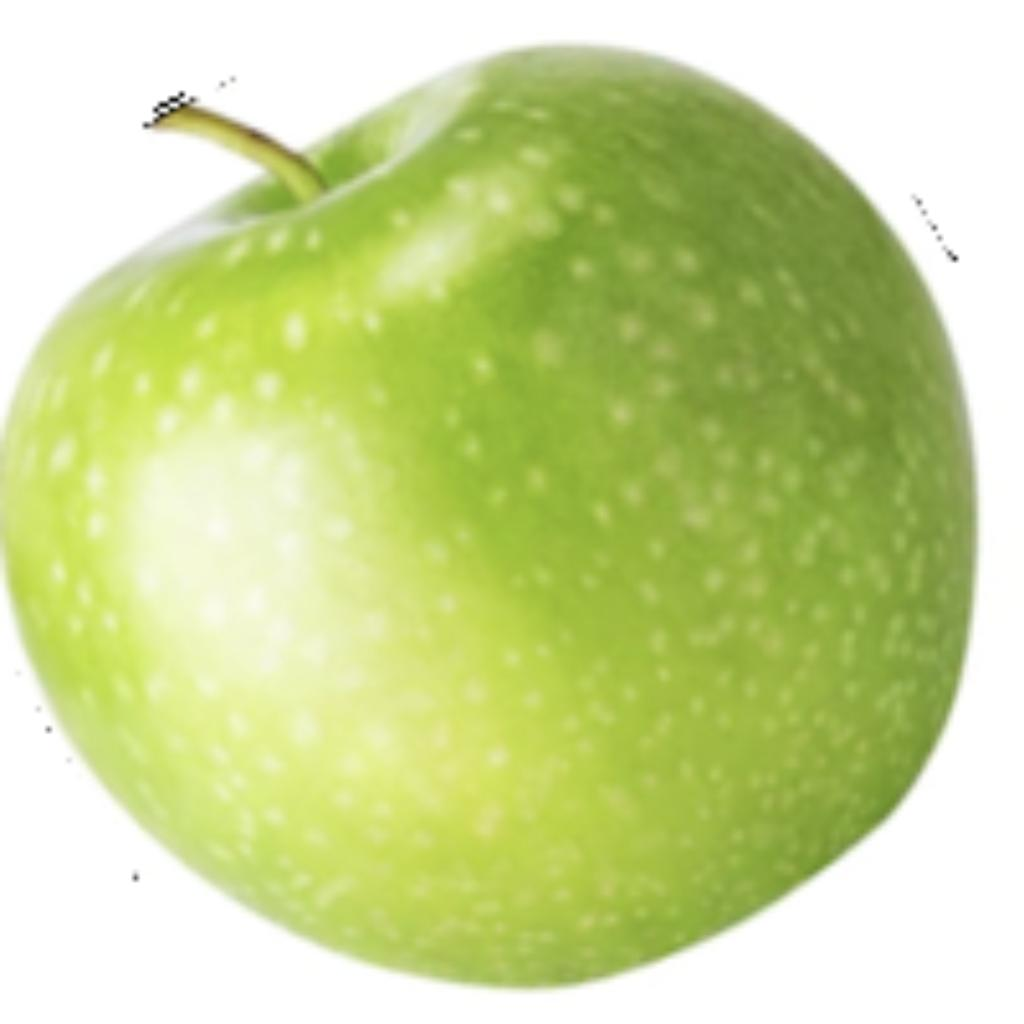apple: (0, 36, 983, 993)
